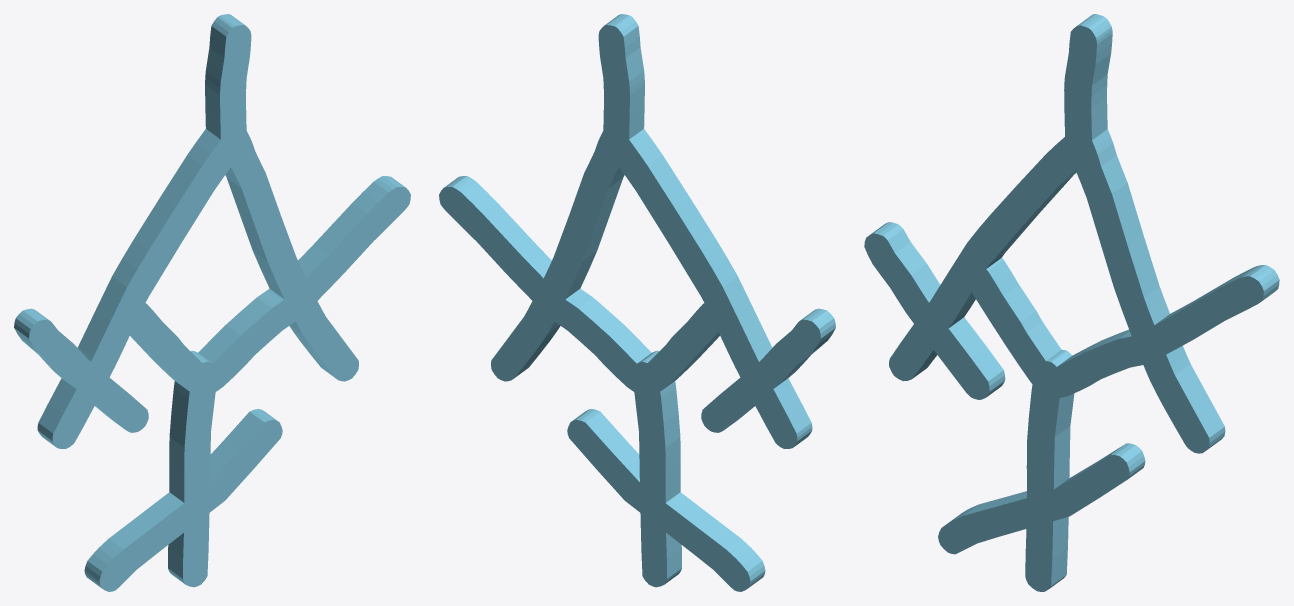
The model's file is tinker.obj.
The picture shows the model from 3 angles, left to right: view 1: azimuth 30°, elevation 25°; view 2: azimuth 150°, elevation 25°; view 3: azimuth 330°, elevation 25°; orthographic projection. The views are drawn at different scales.
Parts seen in each view (by area): view 1: obj_0; view 2: obj_0; view 3: obj_0.
Boxes of the visible parts, x1,y1,x2,y2 form: obj_0: (14,14,410,591); obj_0: (439,14,835,591); obj_0: (864,14,1279,591).
Bounding box in the file's own units: 29.4 × 40.53 × 2.
